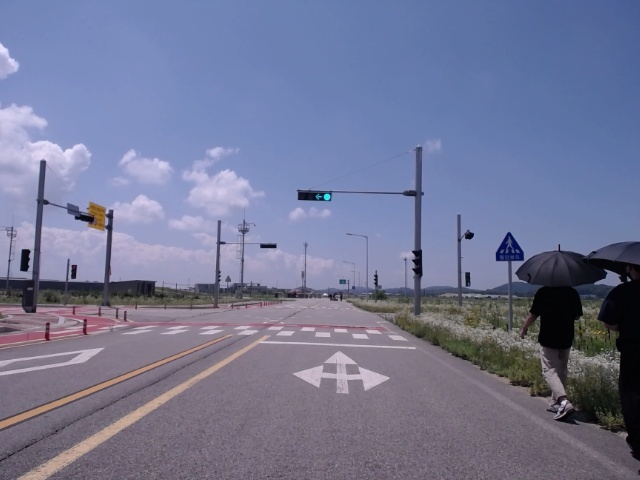all_green_4: (297, 188, 331, 203)
